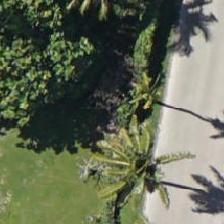coconut_tree: (90, 120, 180, 210), (102, 47, 192, 137)
